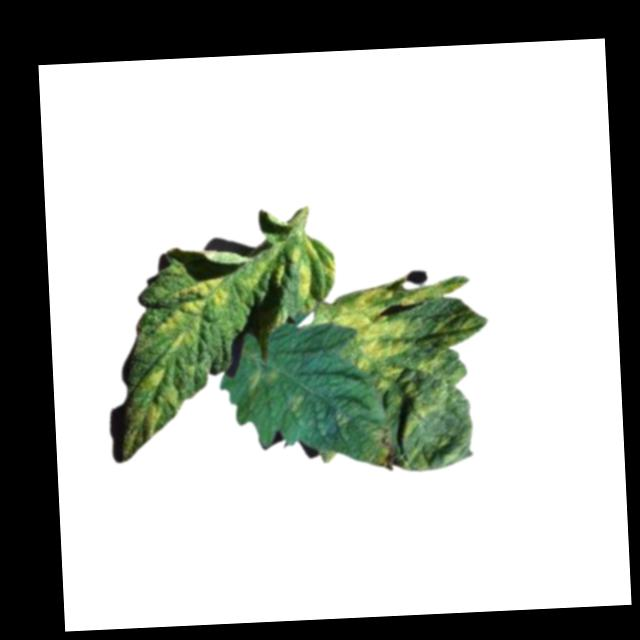Leaf_Mold: (313, 283, 413, 393), (152, 274, 230, 332), (290, 236, 337, 304), (141, 365, 179, 434), (245, 366, 277, 397)
